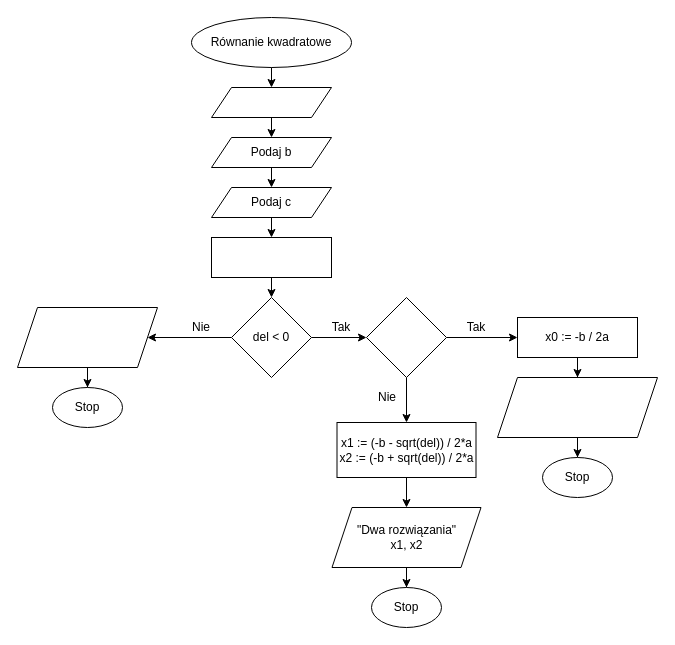
Image size: 675x645. Some labels were removed from this diagram. Each missing label, with the box of its shape:
"Brak rozwiązań rzeczywistych": (16, 306, 158, 368)
"Jedno rozwiązanie x = " x0: (496, 376, 658, 438)
del := b^2 - 4*a*c: (210, 236, 332, 278)
del = 0: (366, 296, 446, 378)
Podaj a: (210, 86, 332, 118)
